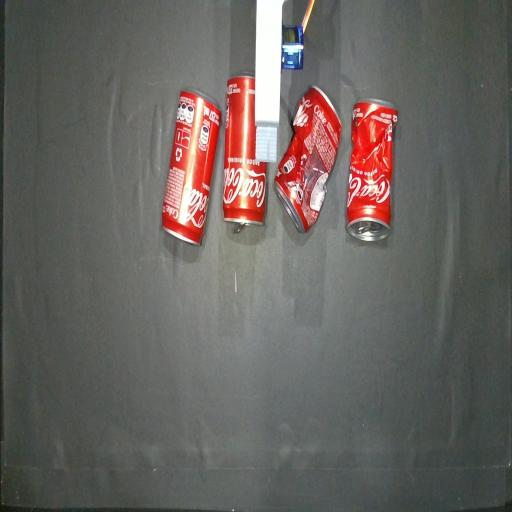lata: (162, 90, 221, 245), (222, 74, 267, 233)
lata_defectuoso: (274, 86, 341, 232), (346, 100, 397, 241)
